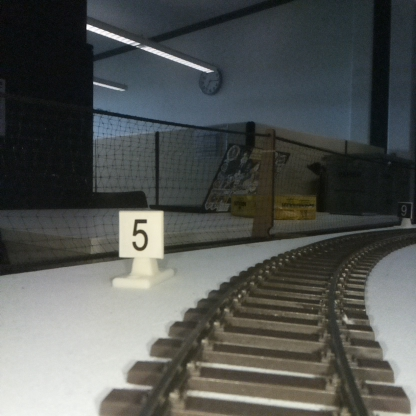black-stop-9: (397, 203, 411, 228)
white-stop-5: (121, 213, 161, 284)
